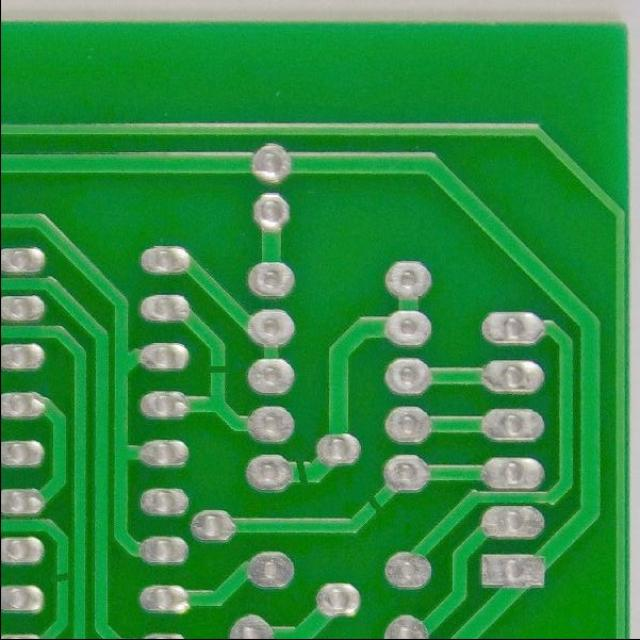open_circuit: (361, 488, 385, 520), (291, 454, 311, 489), (48, 564, 70, 587), (203, 360, 230, 378)
